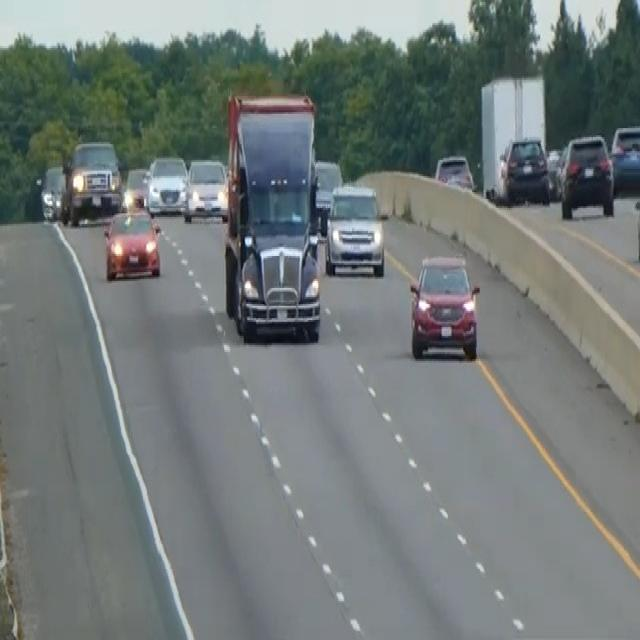car: (394, 225, 495, 388), (408, 251, 480, 361), (324, 182, 385, 278), (62, 137, 123, 222), (559, 132, 615, 218), (103, 204, 161, 281), (498, 133, 550, 204), (182, 155, 227, 222), (147, 153, 187, 215), (312, 157, 343, 231), (610, 121, 639, 192), (434, 151, 475, 192), (39, 162, 65, 220), (122, 165, 150, 210)
lorry: (220, 87, 323, 343)
